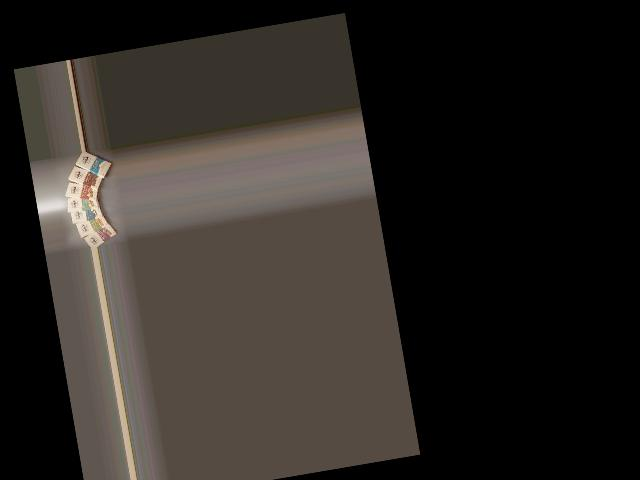chocolate: (72, 148, 115, 182)
